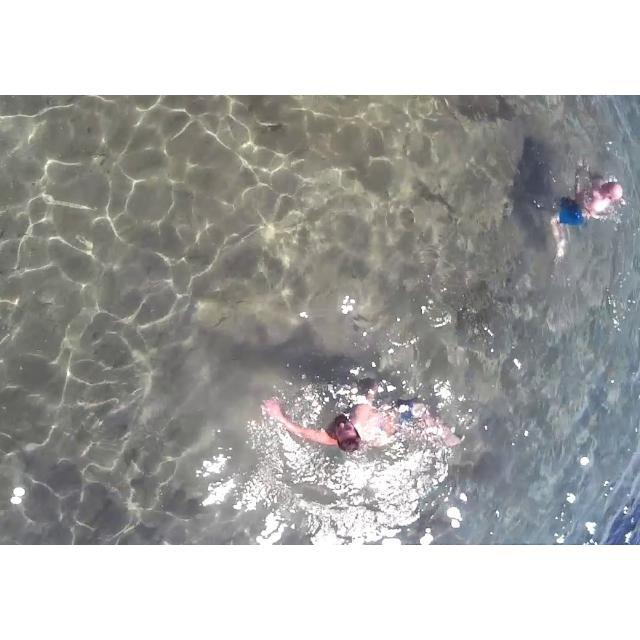human: (261, 365, 429, 462), (547, 154, 631, 260)
